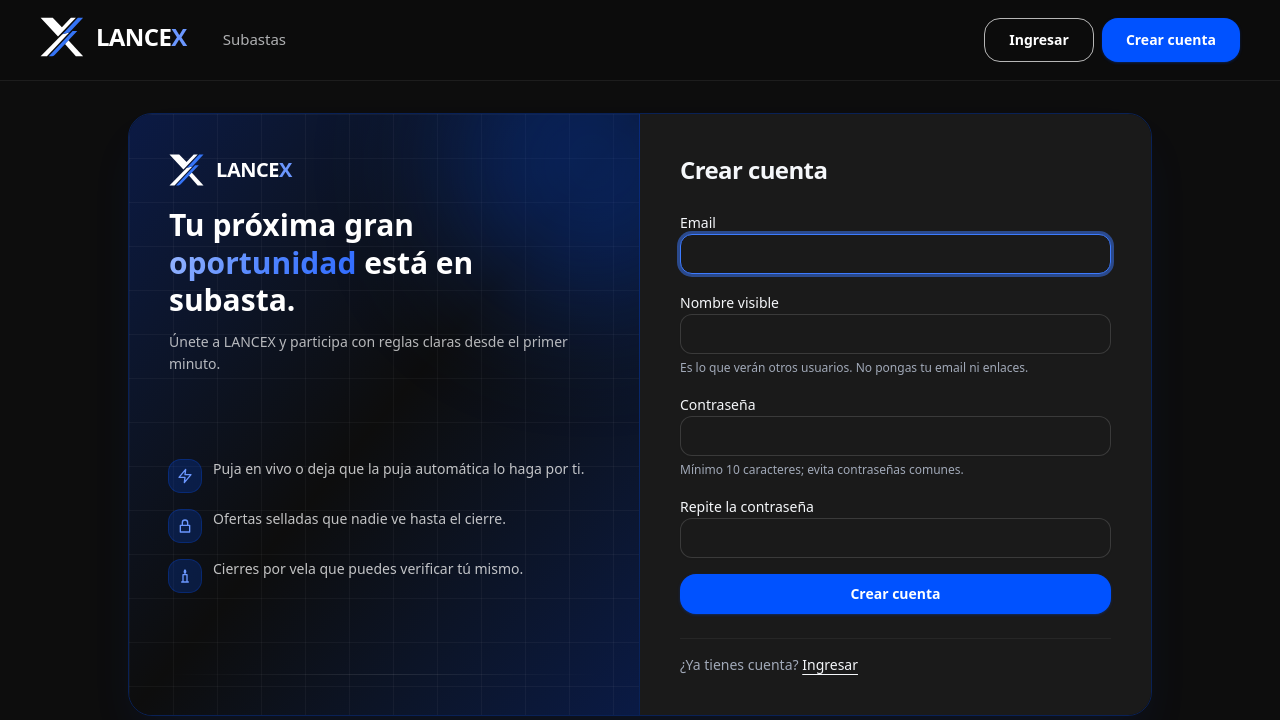
Test: RegisterPage › muestra los errores por campo del backend junto a cada input
This screenshot has width=1280, height=720.
Type "a@example.com" into the field labelled "Email" at (896,254), box [680,234,1111,274]
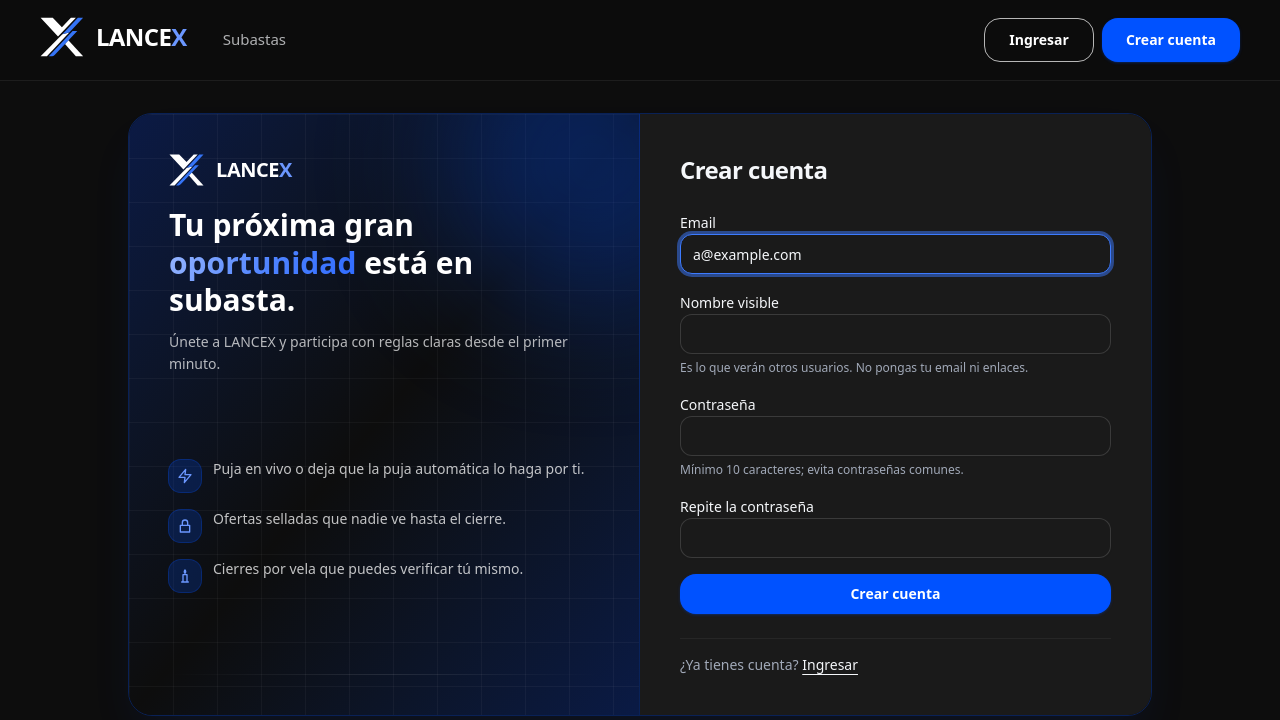
Type "Ana" into the field labelled "Nombre visible" at (896,334), box [680,314,1111,354]
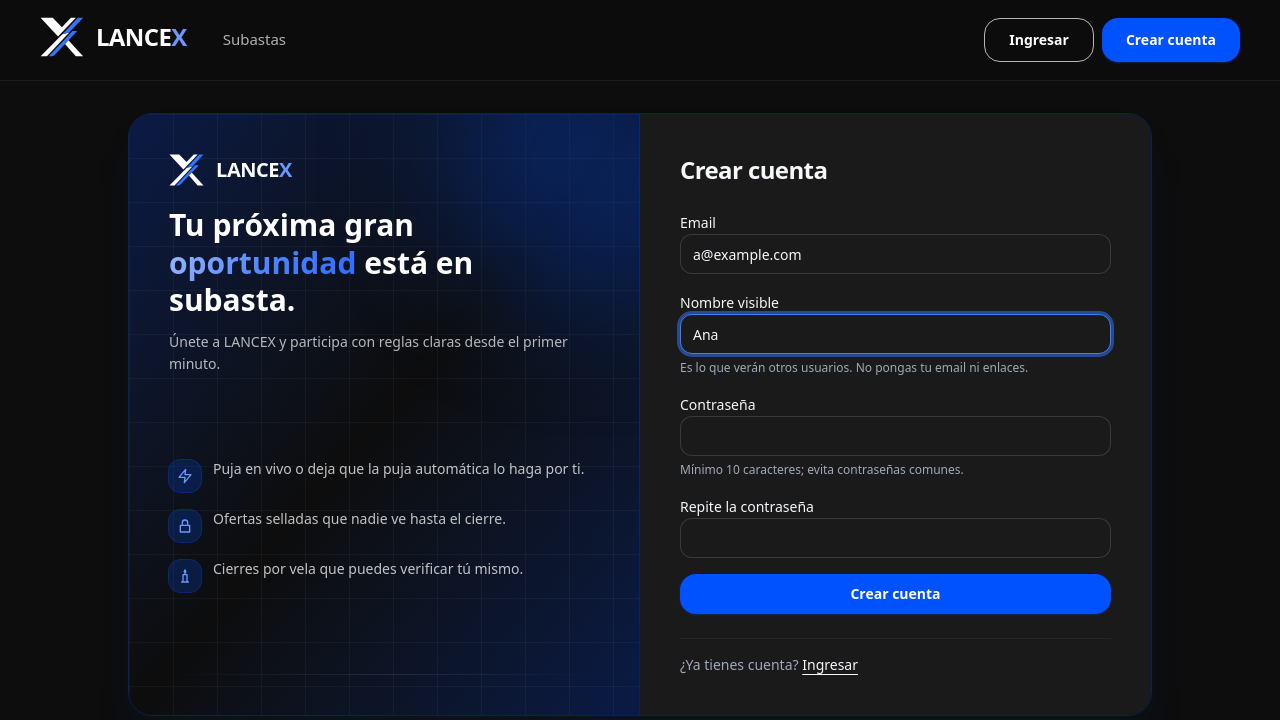
Type "password123" into the password field labelled "Contraseña" at (896,436), box [680,416,1111,456]
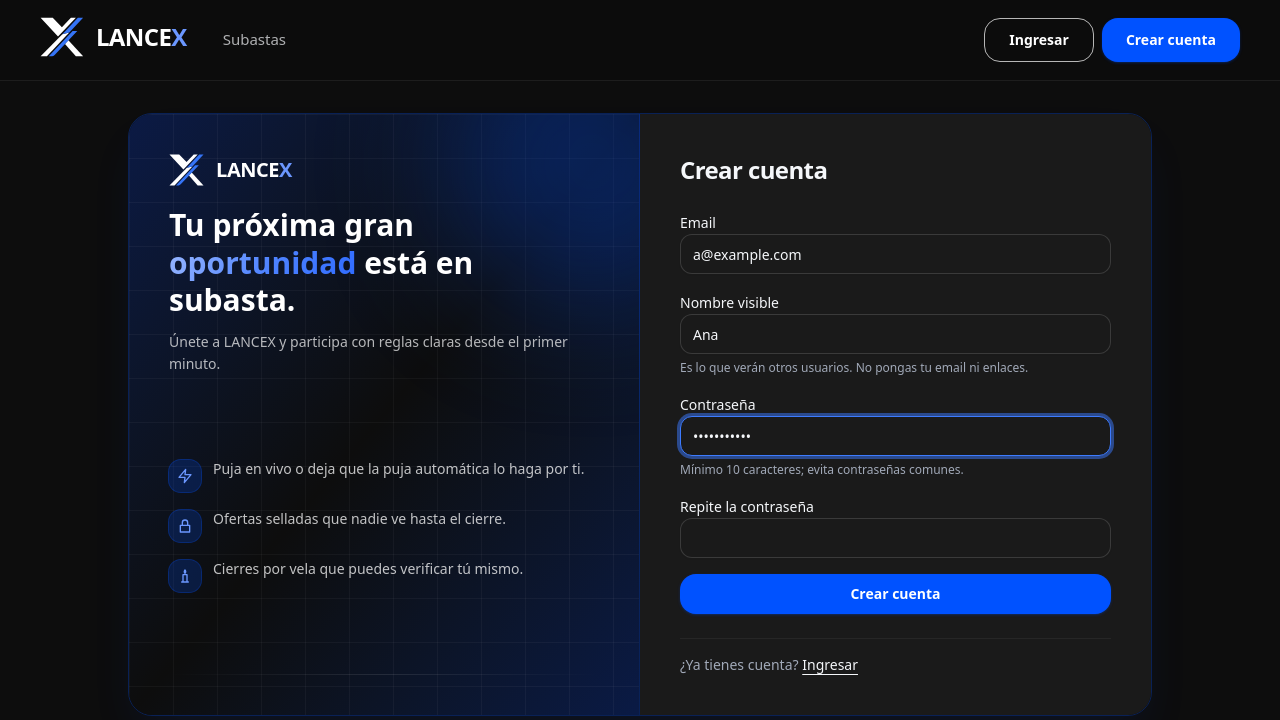
Type "password123" into the password field labelled "Repite la contraseña" at (896,538), box [680,518,1111,558]
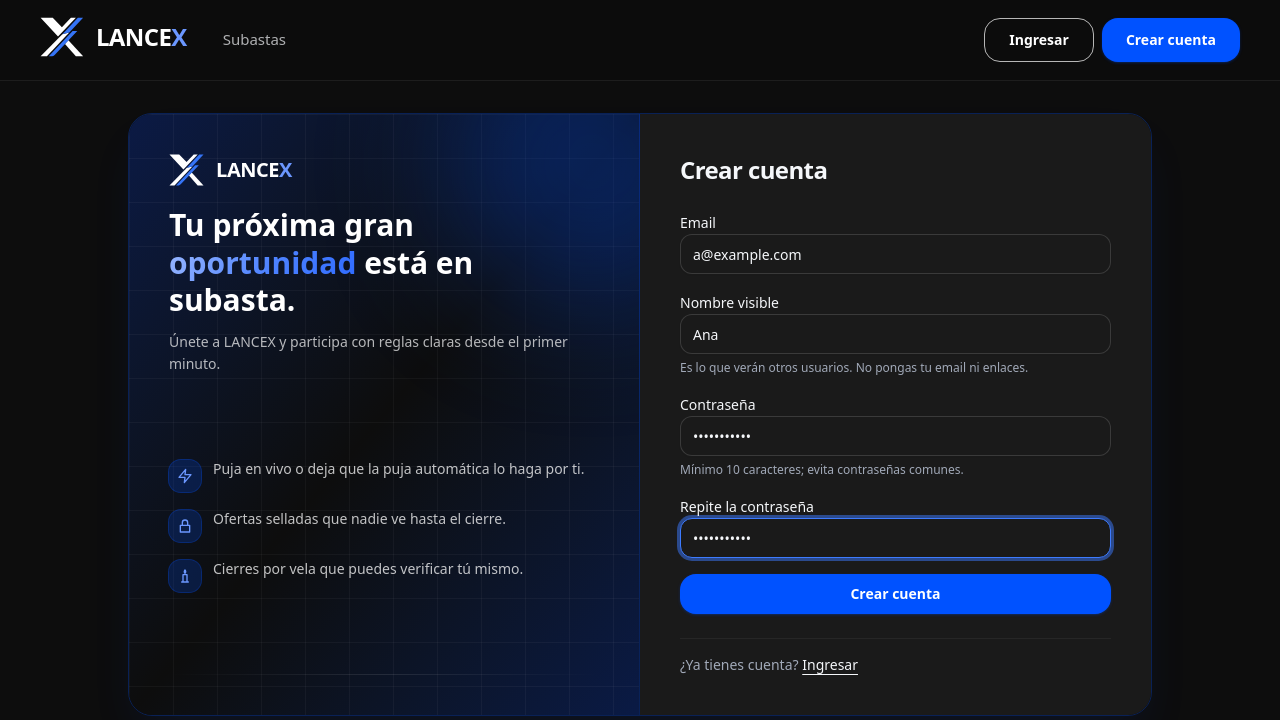
Click the button "Crear cuenta" at (896,594), box [680,574,1111,614]
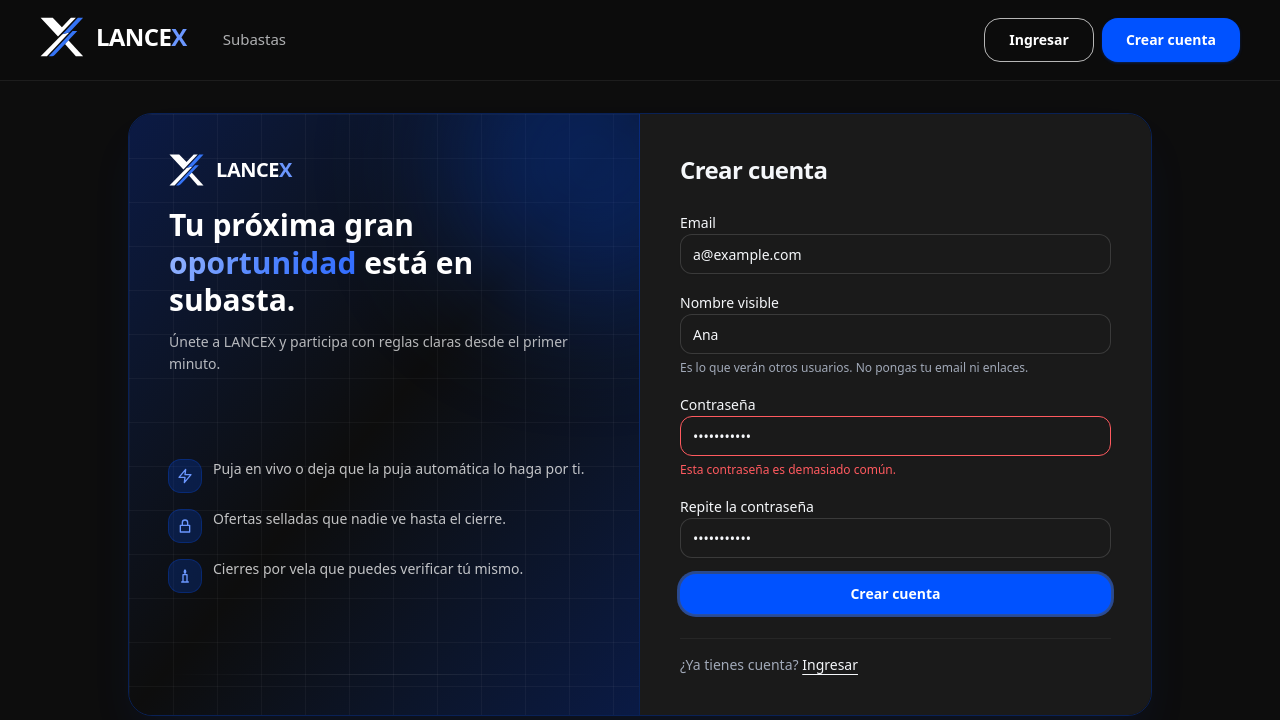
Result: the text "Esta contraseña es demasiado común." is shown at [680,461,896,478]
